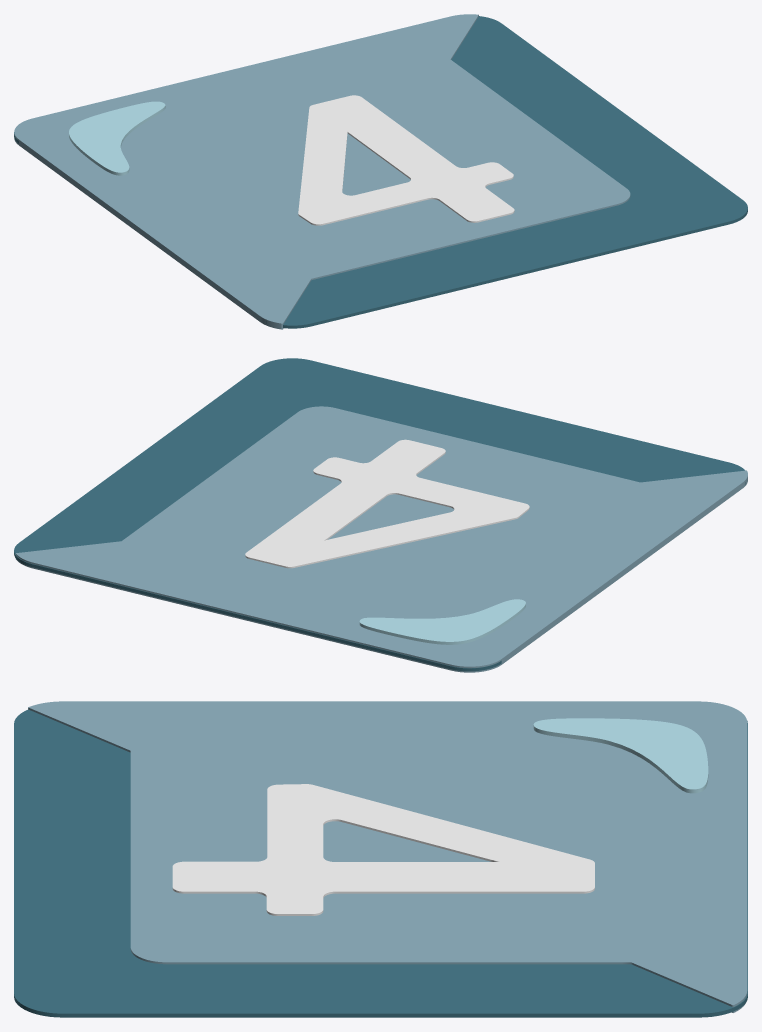
The model's file is emoji_u0034_20e3.glb.
The picture shows the model from 3 angles, top to bottom: view 1: azimuth 30°, elevation 25°; view 2: azimuth 150°, elevation 25°; view 3: azimuth 270°, elevation 25°; orthographic projection. The views are drawn at different scales.
Parts seen in each view (by area): view 1: emoji_u0034_20e3; view 2: emoji_u0034_20e3; view 3: emoji_u0034_20e3.
Boxes of the visible parts, <box> form: emoji_u0034_20e3: <box>14,14,747,329</box>; emoji_u0034_20e3: <box>14,358,747,672</box>; emoji_u0034_20e3: <box>14,701,747,1017</box>.
Bounding box in the file's own units: 0.0339 × 0.0008 × 0.0339.
